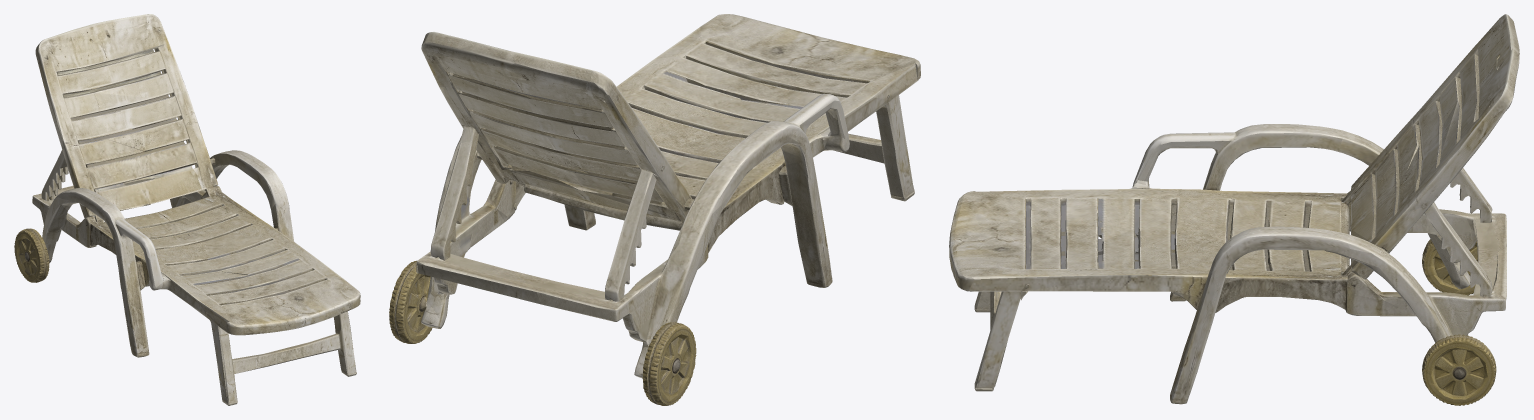
The model's file is lettino_plastica_meshy.glb.
3 views of the same model, side by side, from view 1: azimuth 30°, elevation 25°; view 2: azimuth 150°, elevation 25°; view 3: azimuth 270°, elevation 25° (orthographic). The views are drawn at different scales.
Visible parts, largest first — view 1: Mesh_0; view 2: Mesh_0; view 3: Mesh_0.
Boxes of the visible parts, x1,y1,x2,y2 form: Mesh_0: (14,14,360,405); Mesh_0: (389,14,920,405); Mesh_0: (949,14,1519,405).
Size of the model in its own units: 0.9247 by 1.11 by 1.9.
Materials: 1 (1 with a texture image).
